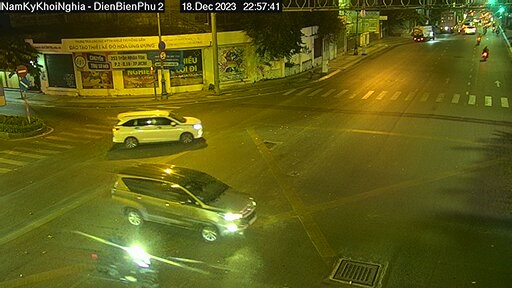car: (110, 161, 259, 240), (107, 108, 209, 148)
motorbike: (477, 43, 493, 62)
